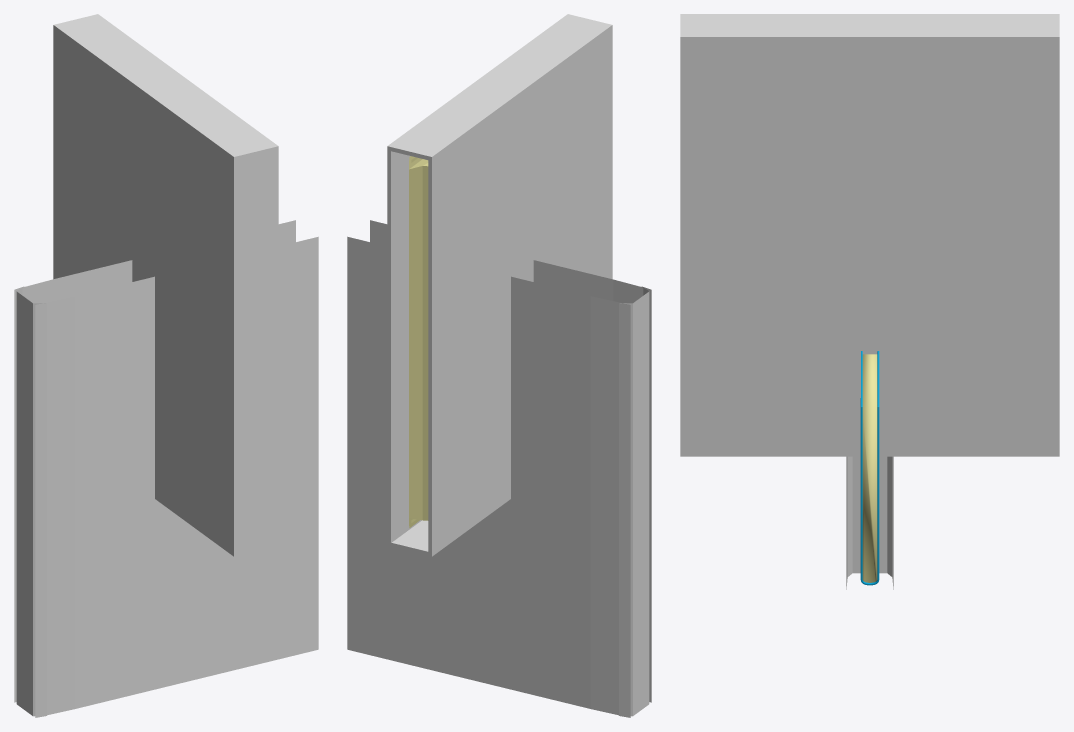
The model's file is closedbook.fbx.
The picture shows the model from 3 angles, left to right: view 1: azimuth 30°, elevation 25°; view 2: azimuth 150°, elevation 25°; view 3: azimuth 270°, elevation 25°; orthographic projection. The views are drawn at different scales.
Parts seen in each view (by area): view 1: Cube.002, Cube.001; view 2: Cube.002, Cube.001, Cube; view 3: Cube.001, Plane, Cube.002, Cube.003.
Boxes of the visible parts, x1,y1,x2,y2 form: Cube.002: [14, 220, 318, 717]; Cube.001: [53, 14, 278, 556]; Cube.002: [347, 220, 651, 717]; Cube.001: [387, 14, 612, 556]; Cube: [409, 156, 428, 527]; Cube.001: [680, 14, 1059, 456]; Plane: [862, 354, 877, 582]; Cube.002: [846, 456, 893, 589]; Cube.003: [860, 351, 879, 585].
Size of the model in its own units: 181 by 361 by 200.
